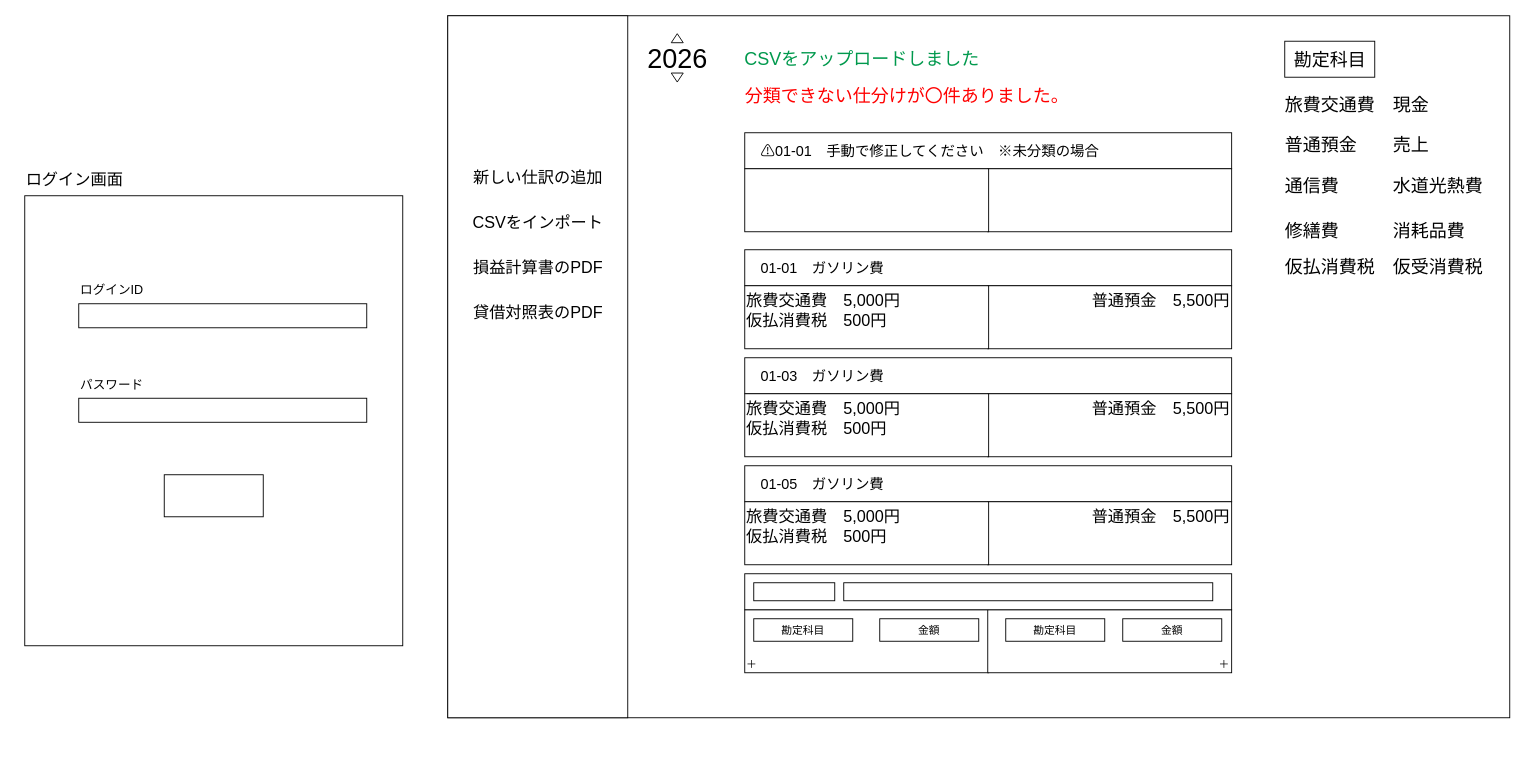
The diagram is 1526 pixels wide and 779 high, and some of its shapes have lost their labels. Here are the shapes that lost their labels. From the top down, the box of each, then its label:
(163, 474, 263, 517): ログイン
(753, 582, 835, 601): 日付
(843, 582, 1213, 601): 摘要
